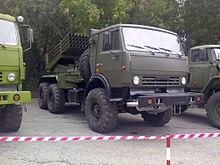rszo: (38, 22, 189, 131)
